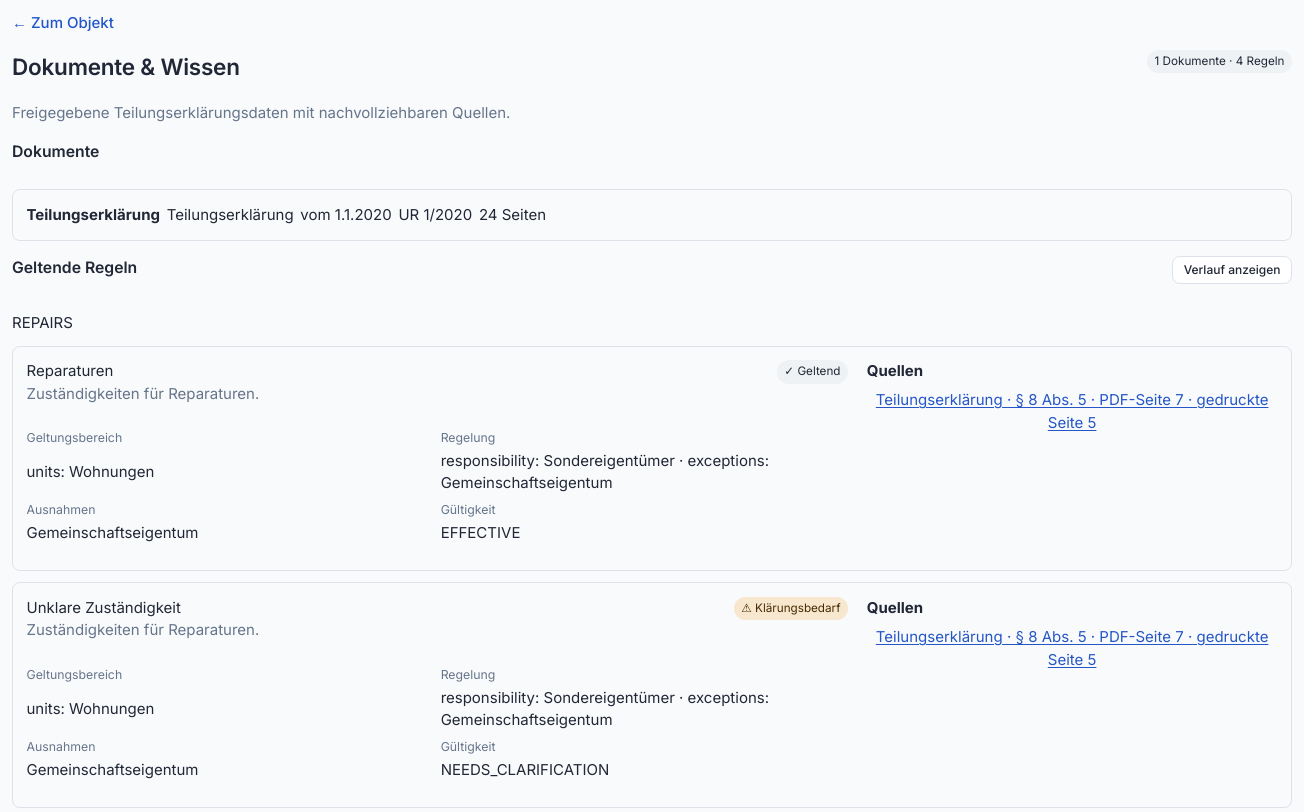
Test: Dokumente & Wissen › hides superseded rules until history is requested and keeps clarification visible
Expected: the button "Unklare Zuständigkeit" is shown, x1=26 y1=597 x2=181 y2=619
Expected: the text "⚠ Klärungsbedarf" is shown, x1=734 y1=597 x2=848 y2=620
Click the button "Verlauf anzeigen". click: (1232, 270)
box: x1=1172 y1=256 x2=1292 y2=284
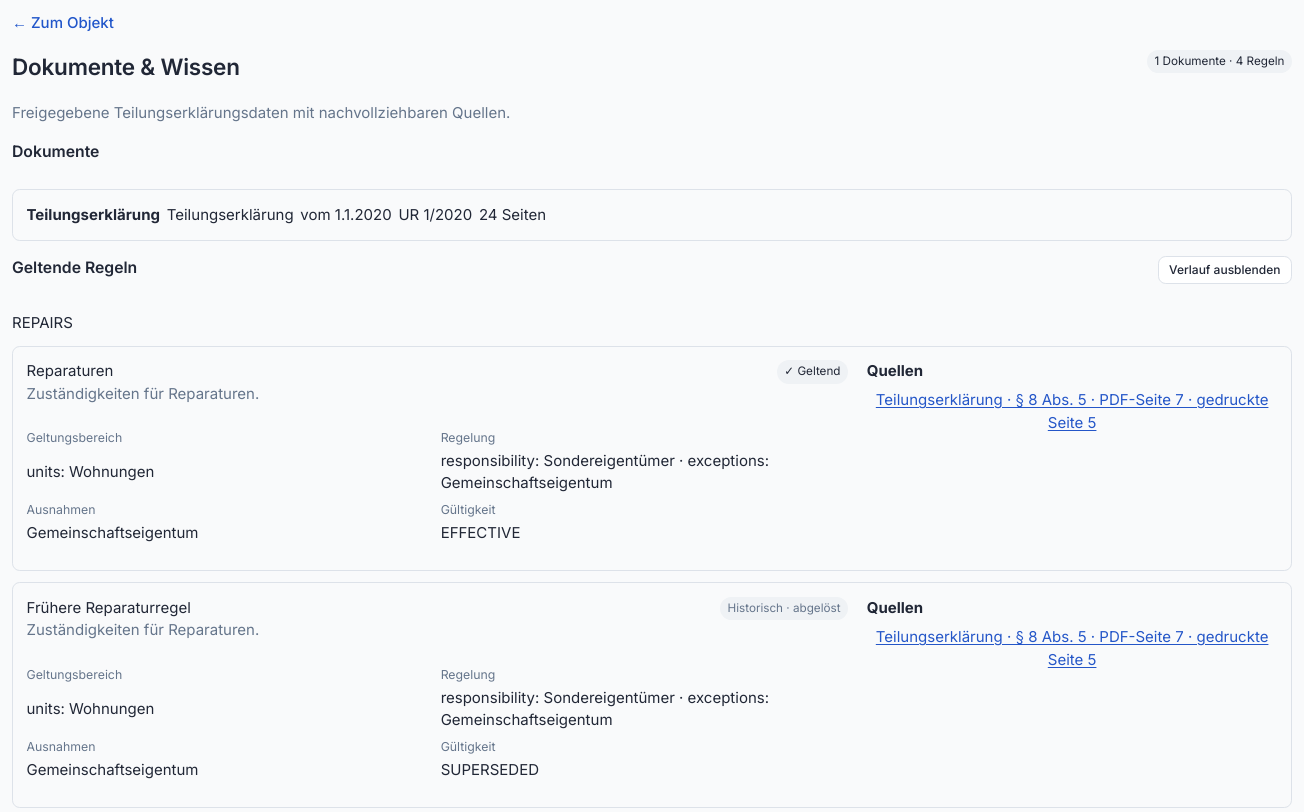
Result: the button "Frühere Reparaturregel" is shown at x1=26 y1=597 x2=191 y2=619
